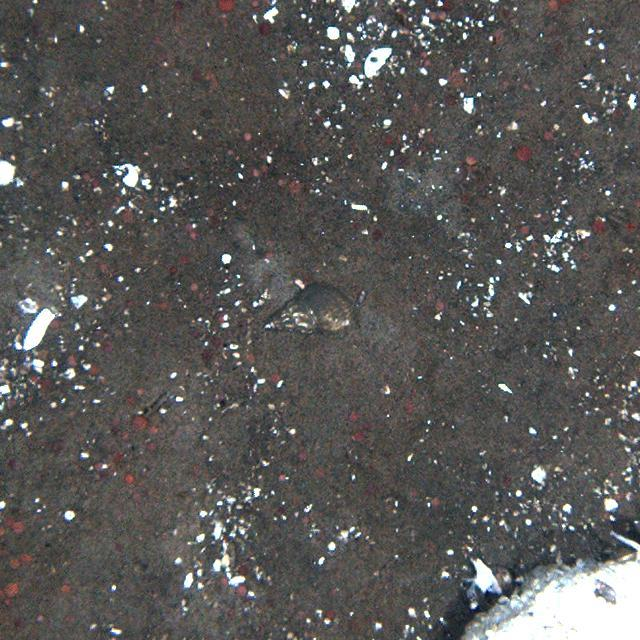whelk: (259, 284, 359, 338)
